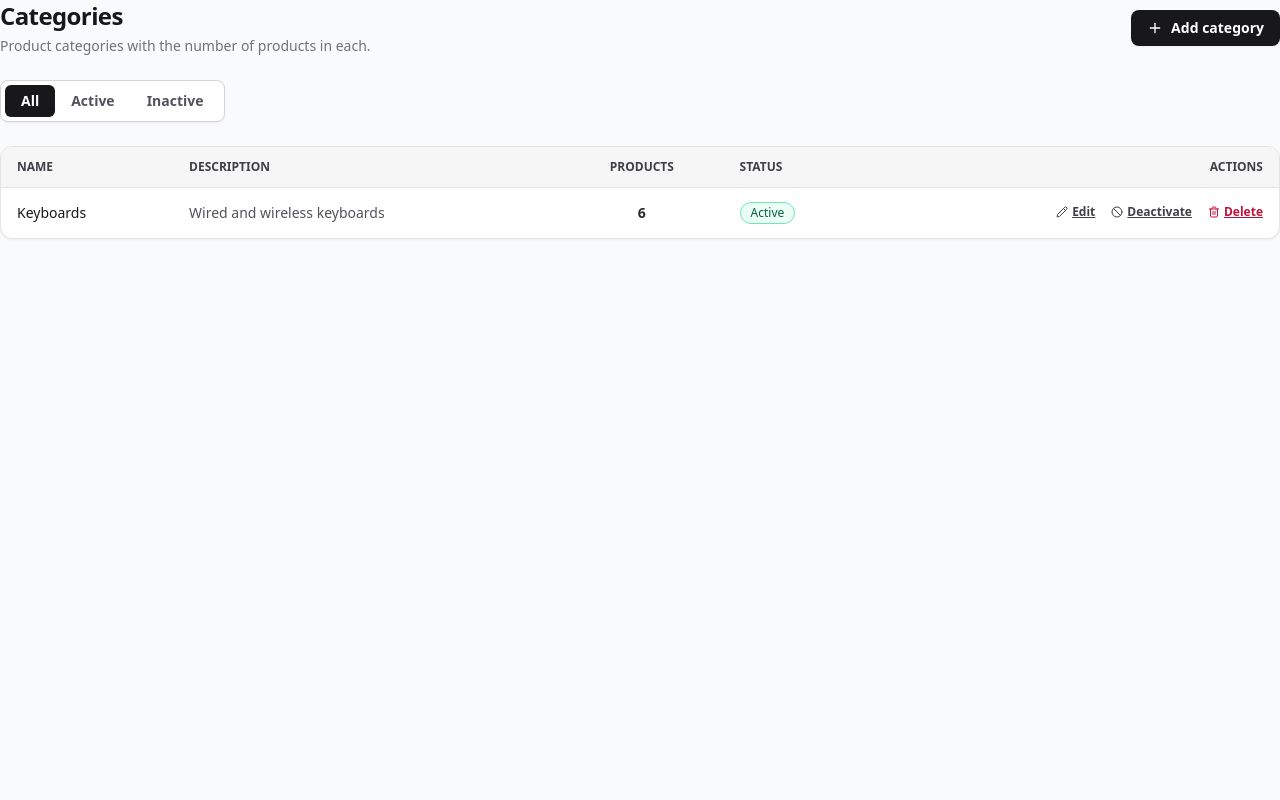
CategoriesPage (IMS-09.1 / FR-CAT-04) › opens the confirmation dialog on Deactivate and sends nothing until confirmed
Click the button with aria-label "Deactivate Keyboards" at (1152, 212), box [1111, 204, 1192, 220]
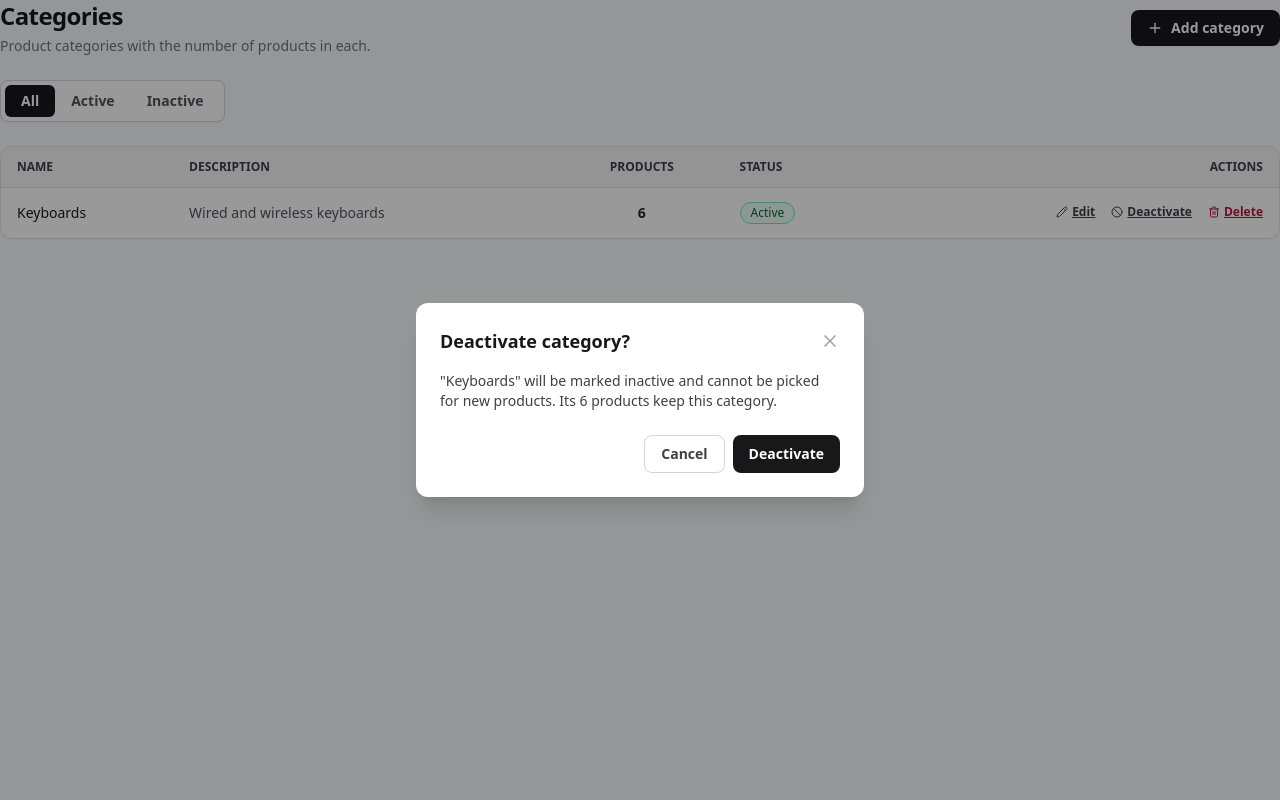
Expected: the heading "Deactivate category?" is shown, [440, 327, 630, 355]
Click the button "Cancel" at (684, 454), box [644, 435, 725, 473]
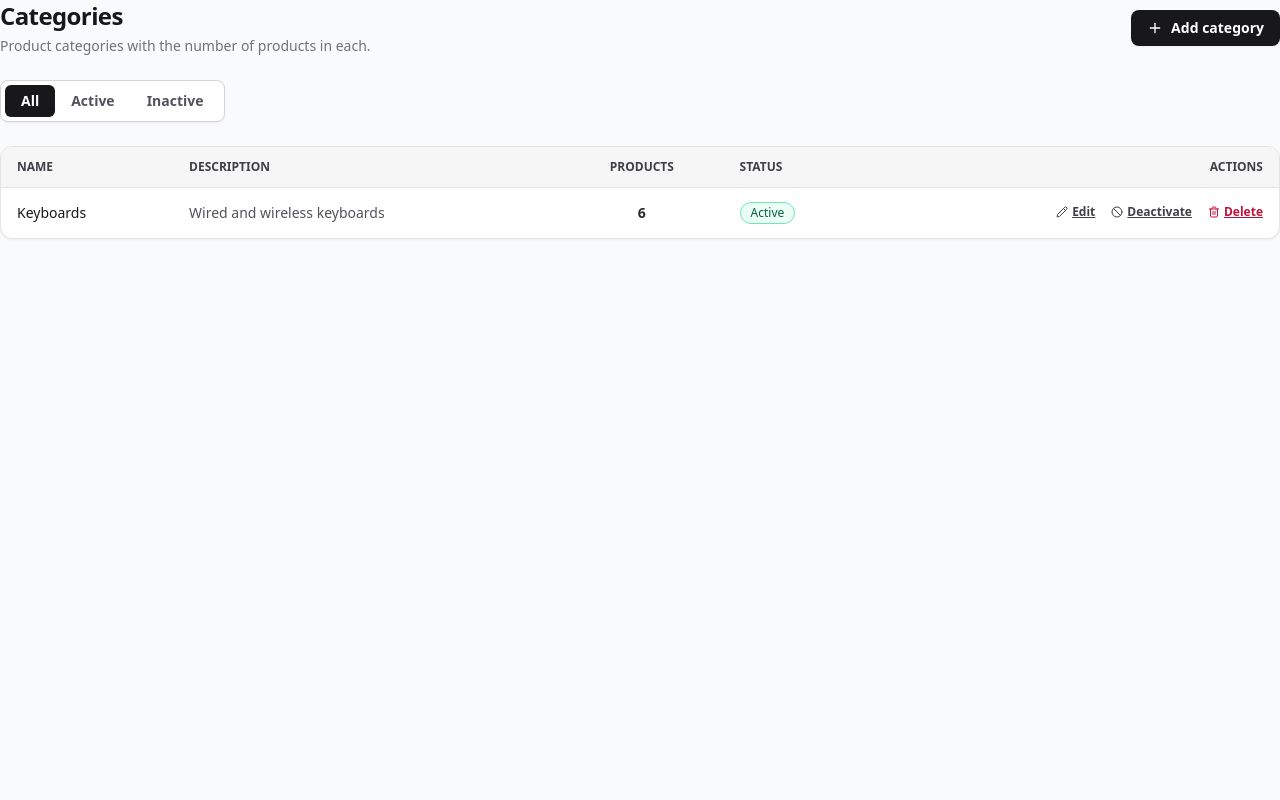
Expected: the dialog is gone
